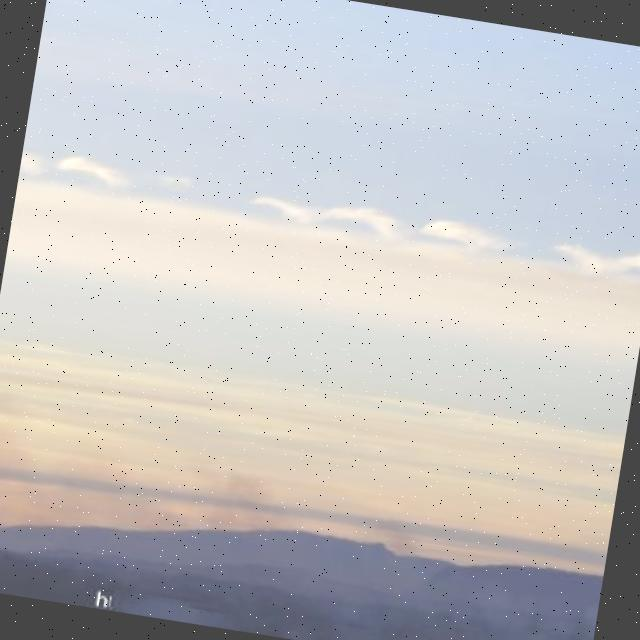Cs: (2, 130, 640, 384)
